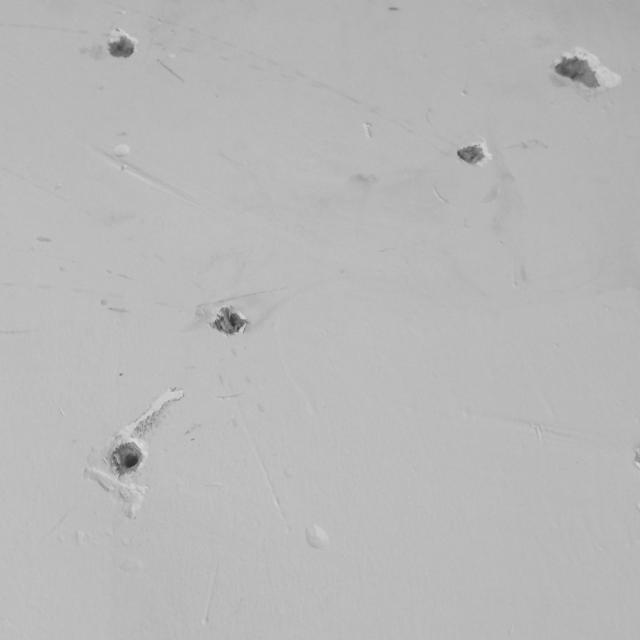rough and patchy surface: (18, 2, 633, 624)
